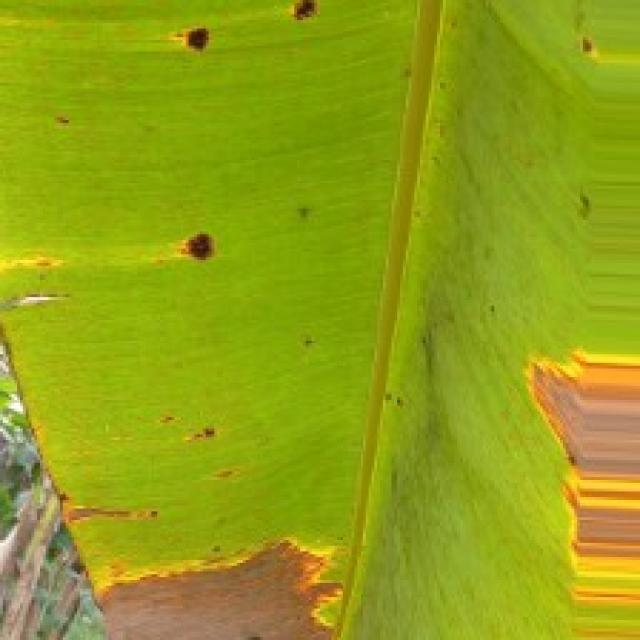Bacterial_spot: (514, 323, 640, 617), (0, 233, 85, 339), (155, 404, 258, 486), (44, 494, 180, 525), (258, 0, 346, 38), (167, 7, 223, 66), (176, 223, 229, 276), (564, 23, 605, 73), (575, 166, 601, 230), (48, 104, 87, 135)
